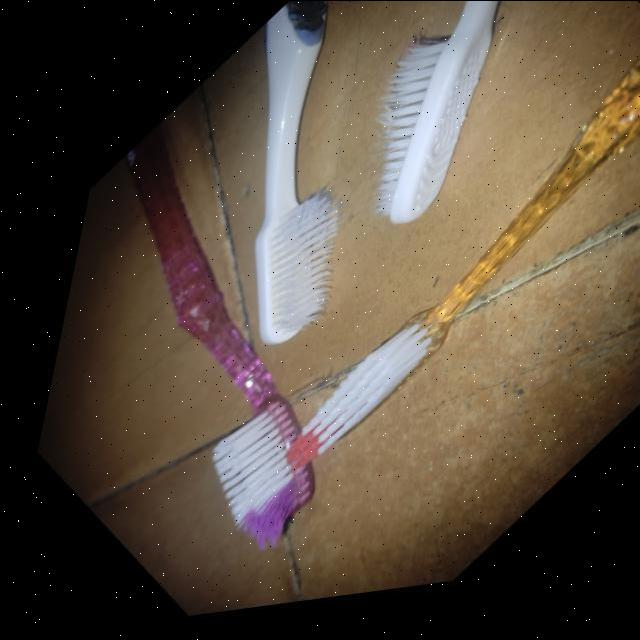toothbrush: (266, 38, 640, 490), (96, 110, 324, 564), (337, 0, 493, 244), (234, 0, 329, 364)
